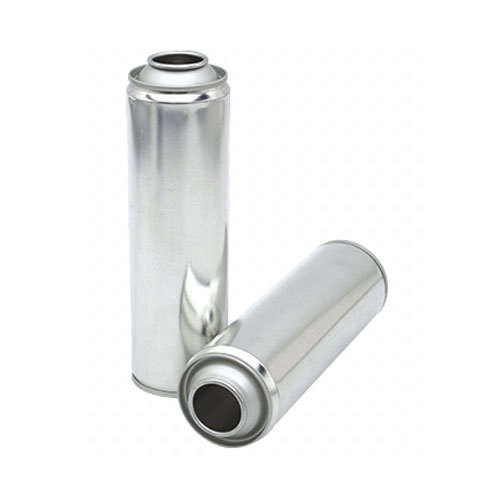metal: (175, 237, 389, 449), (125, 48, 231, 397)
